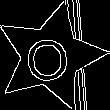O_N: (26, 29, 75, 83)
